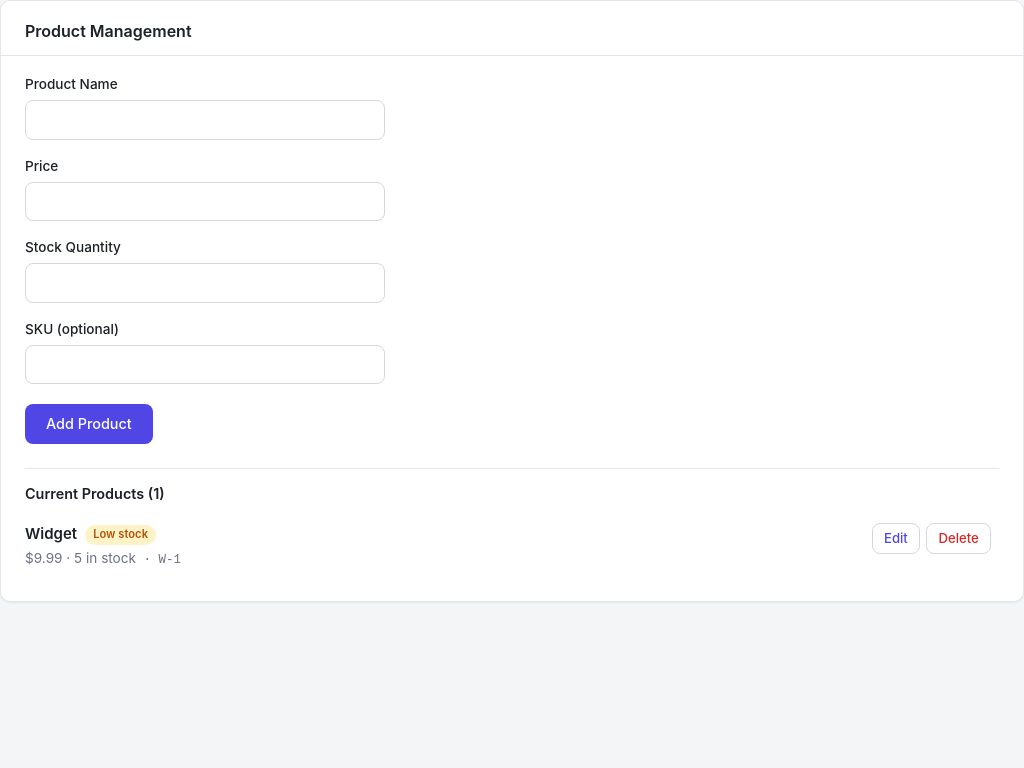
Scenario: ProductManagement › populates the form on Edit and PUTs the update
Expected: the text "Widget" is shown, [25,524,77,543]
Click the button "Edit": click(896, 538) [872,523,920,554]
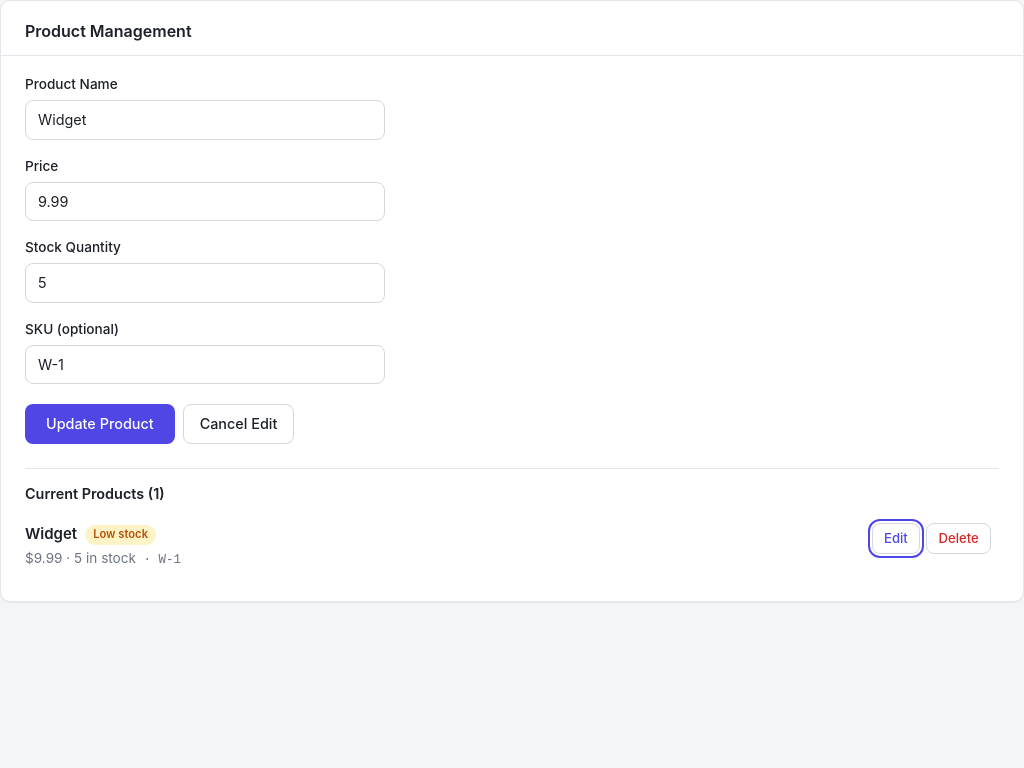
Result: the field labelled "Product Name" holds "Widget"
Result: the number field labelled "Price" holds "9.99" at [25,182,385,221]
Result: the number field labelled "Stock Quantity" holds "5" at [25,263,385,303]
In the field labelled "Product Name": (205, 120) [25,100,385,140], type " Pro"
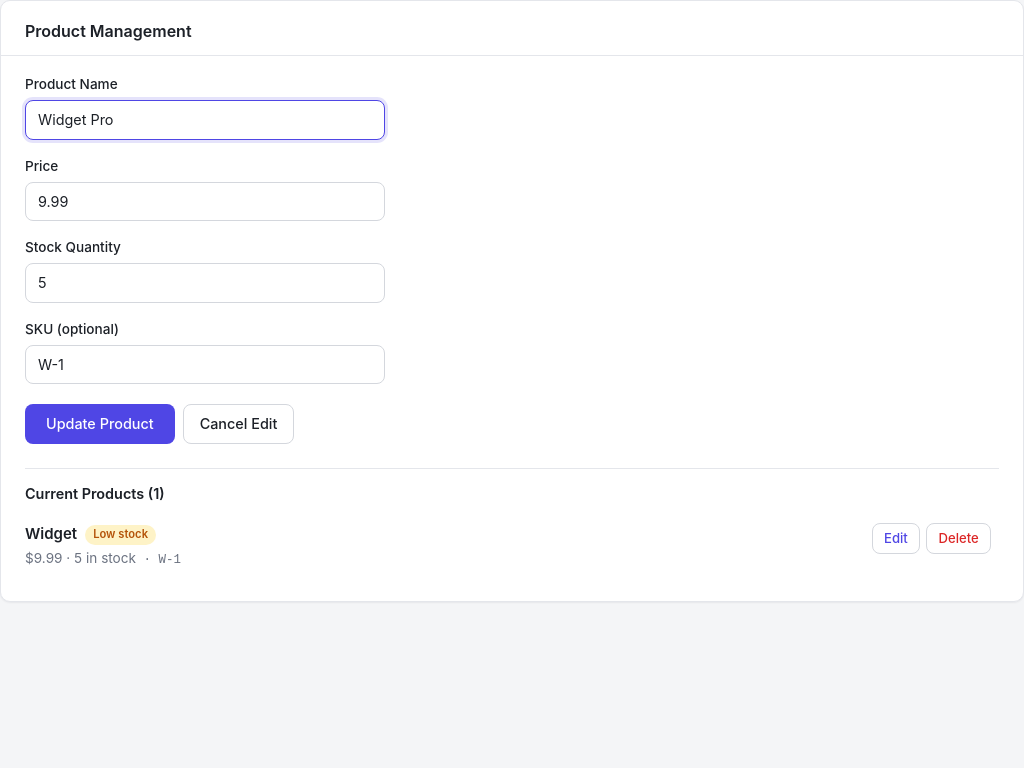
Click the button "Update Product": click(100, 424) [25,404,175,444]
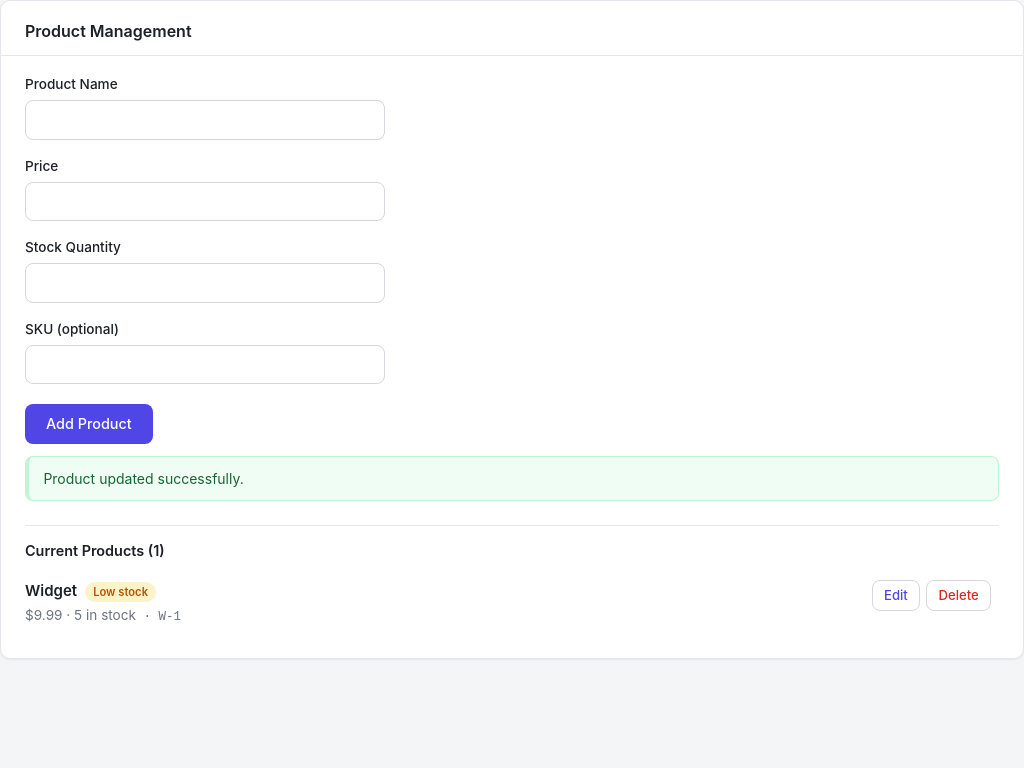
Result: the text "Product updated successfully." is shown at [25,456,999,501]
Result: the field labelled "Product Name" is empty at [25,100,385,140]
Result: the button "Add Product" is shown at [25,404,153,444]
